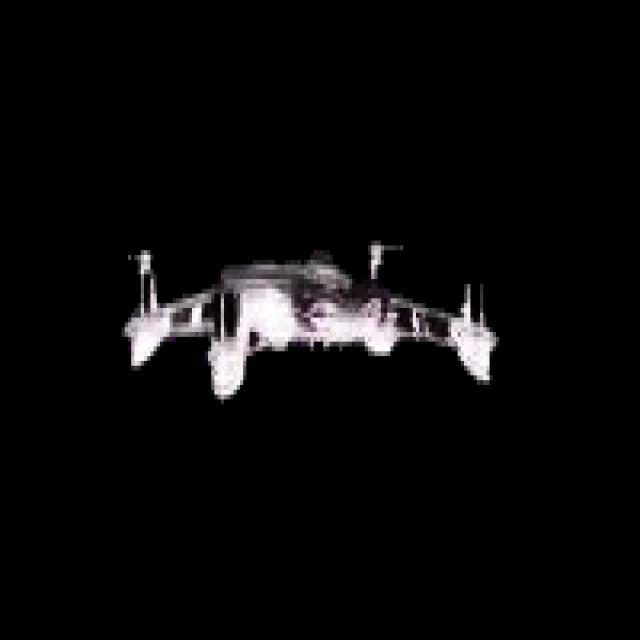drone: (108, 226, 519, 409)
